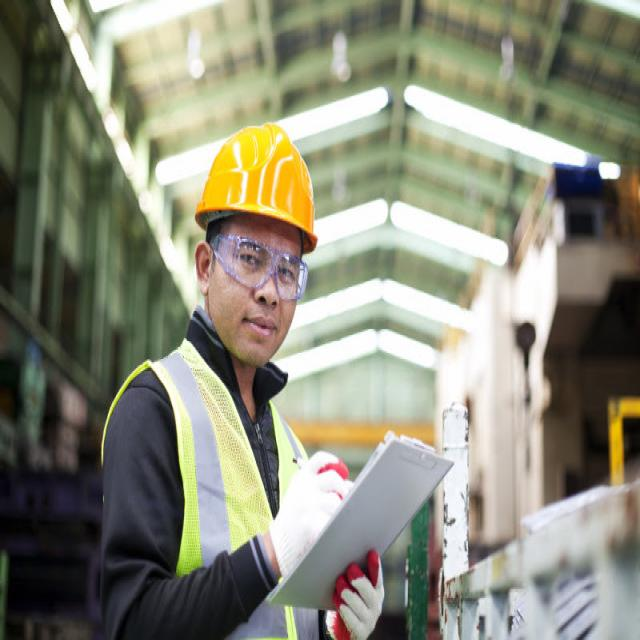Reflective-Jacket: (102, 338, 337, 637)
Safety-Helmet: (191, 120, 322, 252)
